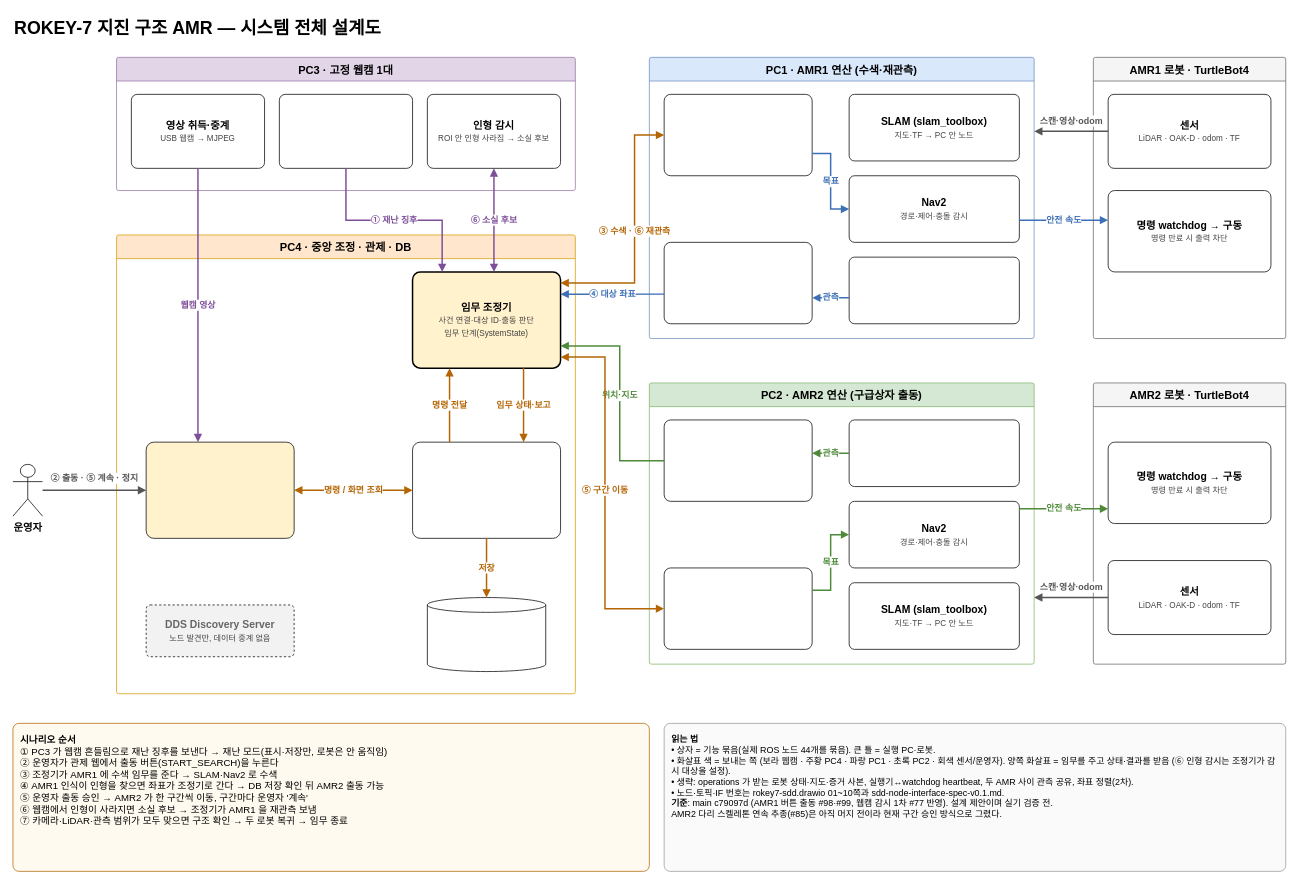
This 1299x884 diagram has some shape labels left out. Here are the shapes that lost their labels. From the top down, the centre of each, then its label:
(346,131): 지진 감지 영상 흔들림 → 재난 징후
(737,135): 임무 실행기 임무·lease 검증 · 정지 판정
(737,283): 지도·좌표 어댑터 인형 위치 → mission 좌표
(933,290): 인식 (YOLO) 인형 탐지·재확인 관측
(737,460): 지도·좌표 어댑터 위치·지도 revision
(933,453): 인식 · 통로 판정 통로 판정은 2차(현재 보류)
(219,489): 관제 웹 영상·지도·로봇 상태 출동·계속·정지 버튼
(486,489): operations HTTP API · DB 유일한 쓰기 로봇 상태·지도·증거 수신 정지(STOP)는 실행기로 직접
(737,608): 임무 실행기 구간 승인·lease 검증 · 정지 판정
(486,634): DB · 증거 저장소 SQLite + 파일
